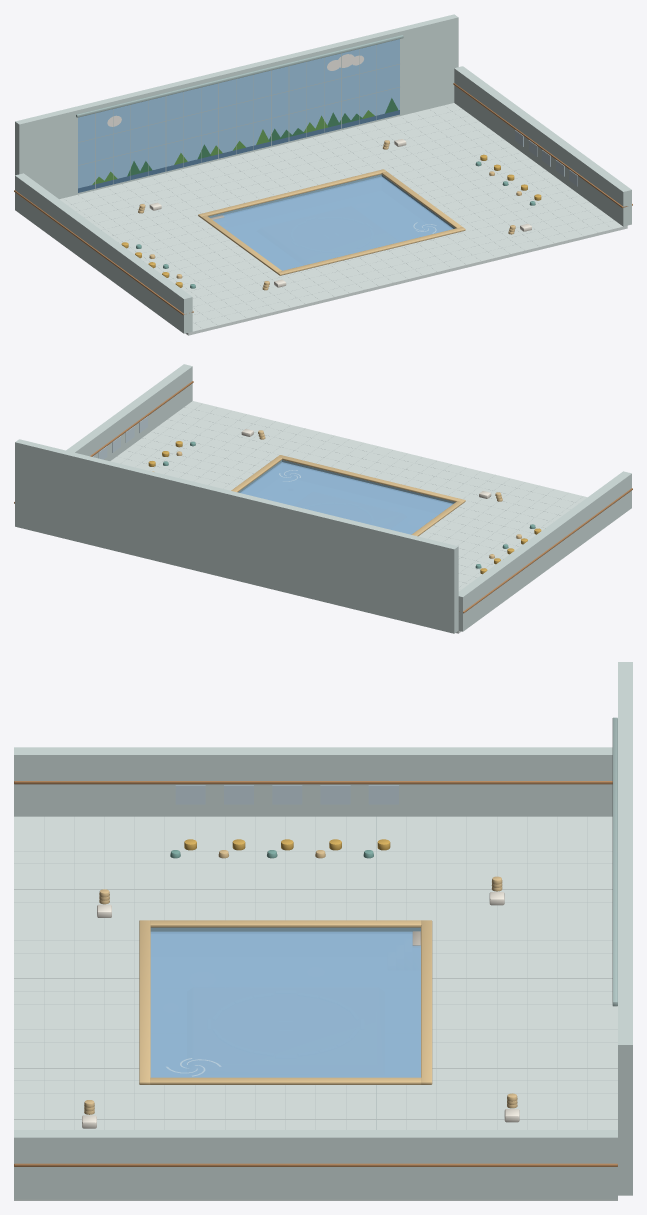
Rendered from bathpit_kit.glb.
3 views of the same model, one above another, from view 1: azimuth 30°, elevation 25°; view 2: azimuth 150°, elevation 25°; view 3: azimuth 270°, elevation 25° (orthographic). The views are drawn at different scales.
Visible parts, largest first — view 1: PIT_House, WATER, PIT_Bath; view 2: PIT_House, WATER, PIT_Bath; view 3: PIT_House, WATER, PIT_Bath.
Boxes of the visible parts, x1,y1,x2,y2 form: PIT_House: [14, 14, 632, 335]; WATER: [213, 176, 452, 270]; PIT_Bath: [198, 169, 465, 275]; PIT_House: [14, 364, 632, 633]; WATER: [240, 462, 452, 534]; PIT_Bath: [231, 455, 465, 536]; PIT_House: [14, 662, 632, 1200]; WATER: [150, 931, 420, 1077]; PIT_Bath: [139, 920, 432, 1084].
Bounding box in the file's own units: 61.5 × 13.45 × 41.
Materials: 2 (2 with a texture image).
